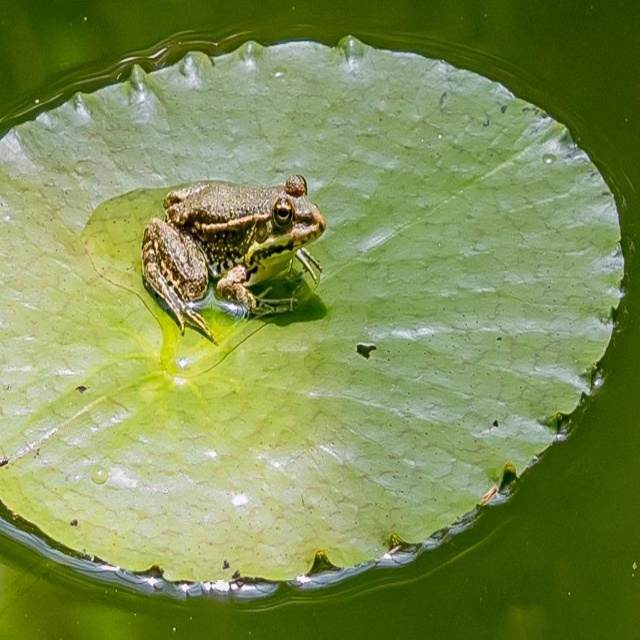Frog: (140, 171, 327, 345)
